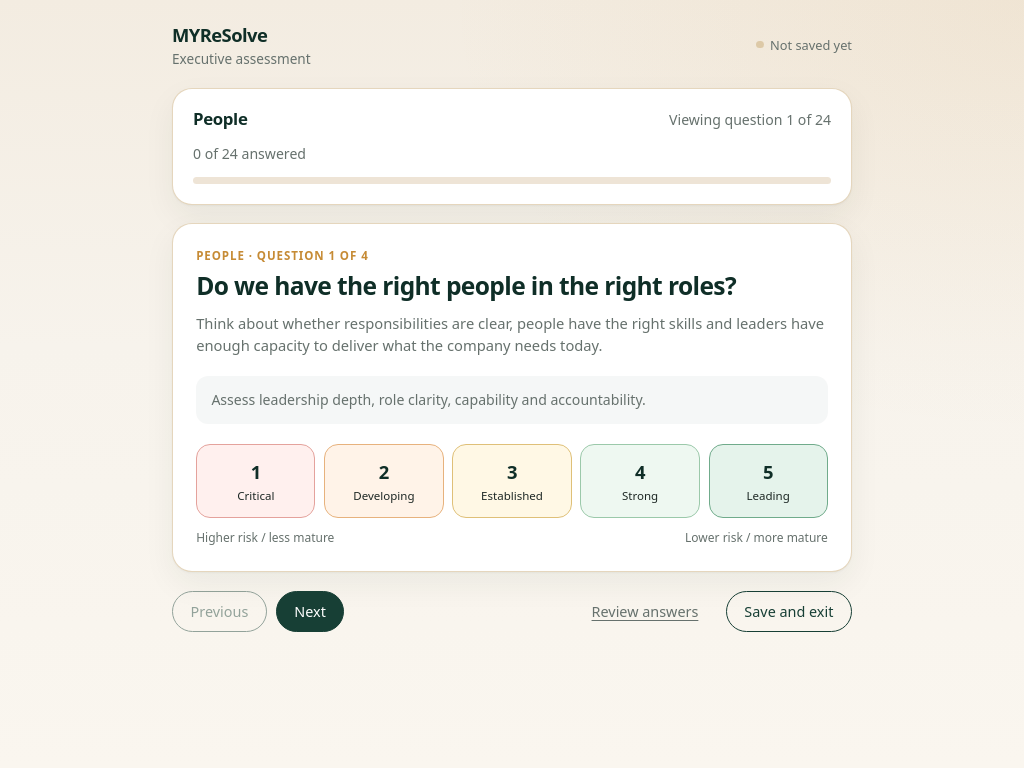
it: AssessmentApp › supports next/previous navigation
Expected: the button with test id "nav-previous" is disabled, [172,591,267,632]
Click the button with test id "nav-next" at (310, 612), box [276,591,344,632]
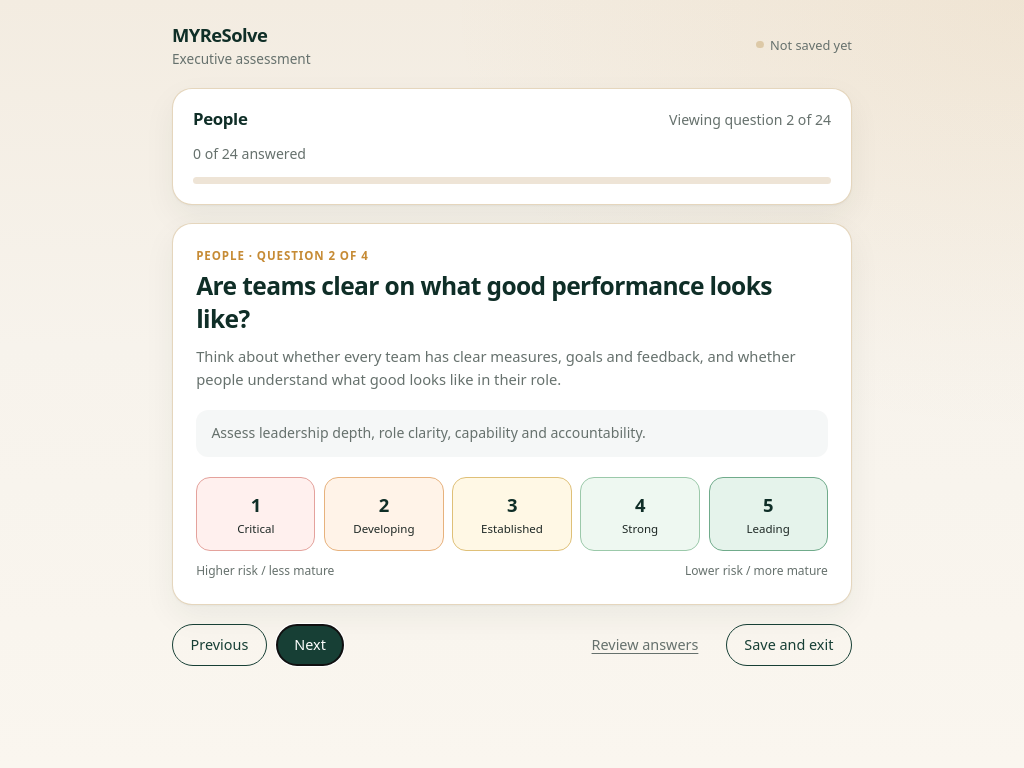
Result: the heading with test id "question-text" reads "Are teams clear on what good performance looks like?" at [196,269,772,335]
Click the button with test id "nav-previous" at (219, 645), box [172,624,267,666]
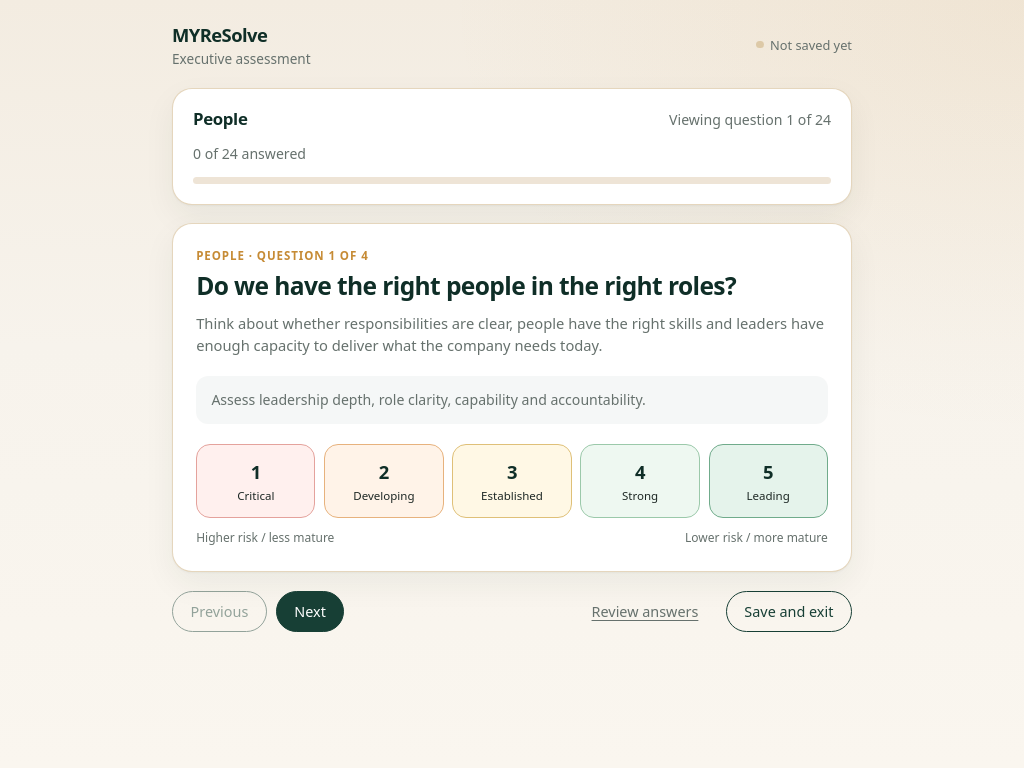
Result: the heading with test id "question-text" reads "Do we have the right people in the right roles?" at [196,269,736,302]
